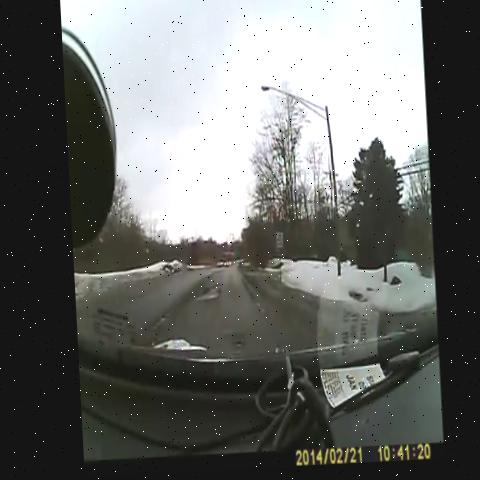pothole: (237, 272, 262, 324), (188, 279, 223, 313), (142, 304, 172, 341), (217, 332, 249, 364)
